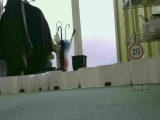speed_20: (126, 42, 144, 60)
